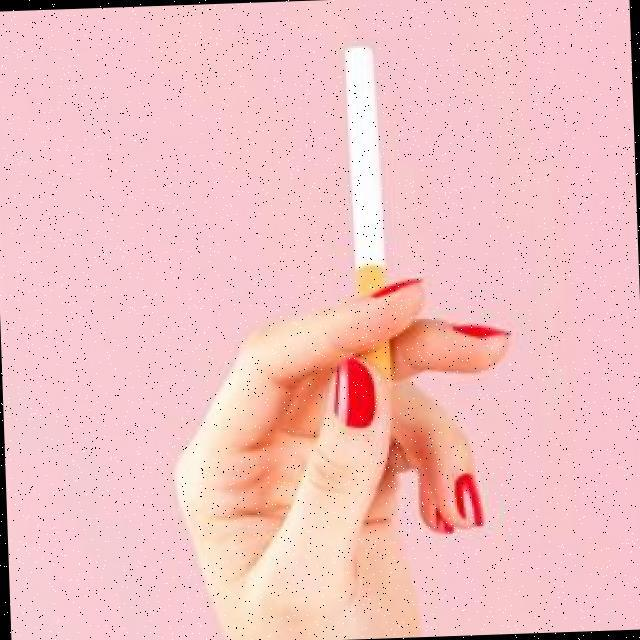cigarette: (345, 44, 386, 292)
